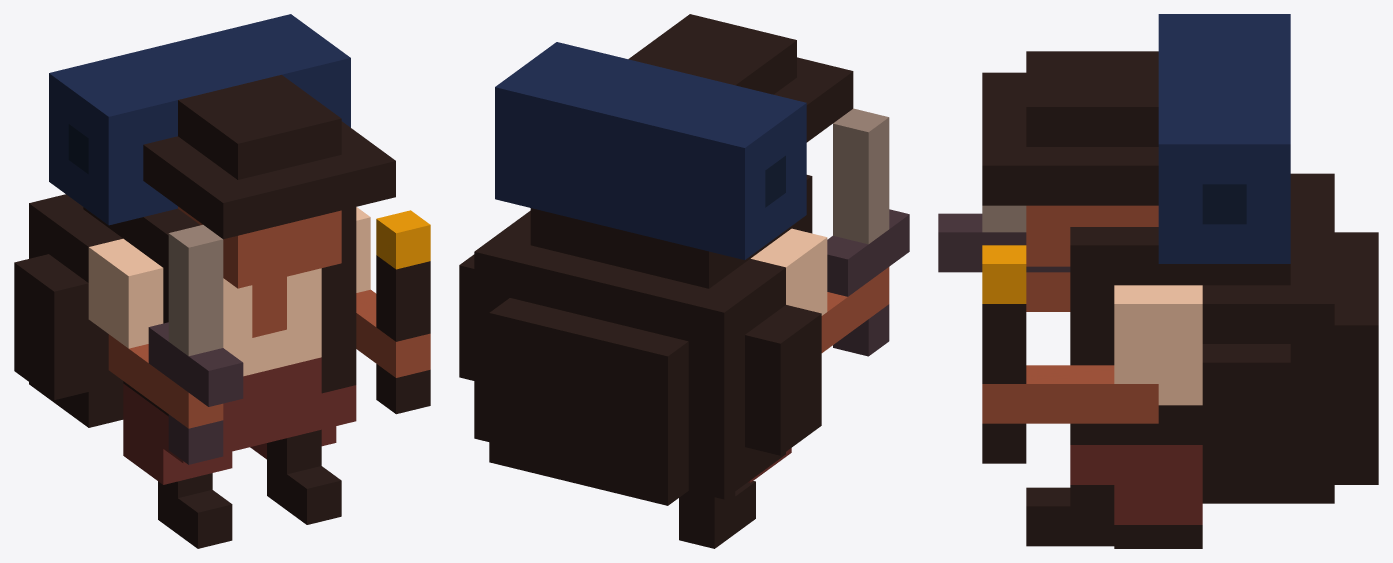
File: adventurer_walk_1.obj
3 renders of one model, left to right at view 1: azimuth 30°, elevation 25°; view 2: azimuth 150°, elevation 25°; view 3: azimuth 270°, elevation 25°, orthographic. The views are drawn at different scales.
Bounding box in the file's own units: 0.9 × 1.2 × 1.
Materials: 1 (1 with a texture image).
